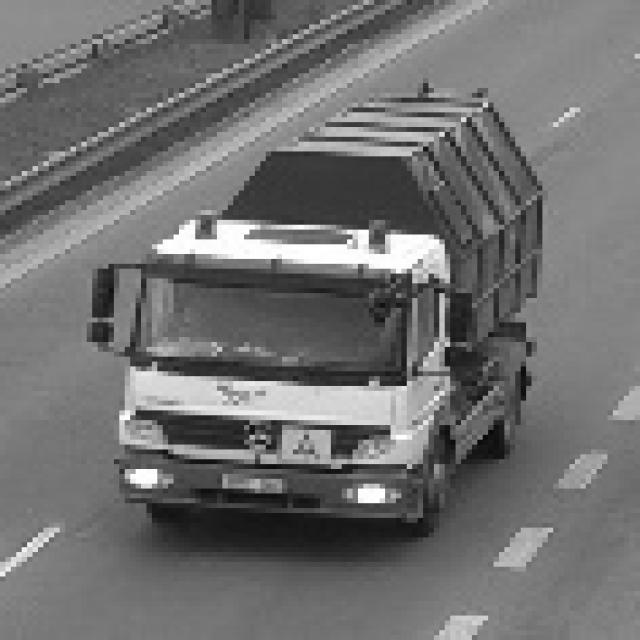truck: (81, 83, 542, 542)
